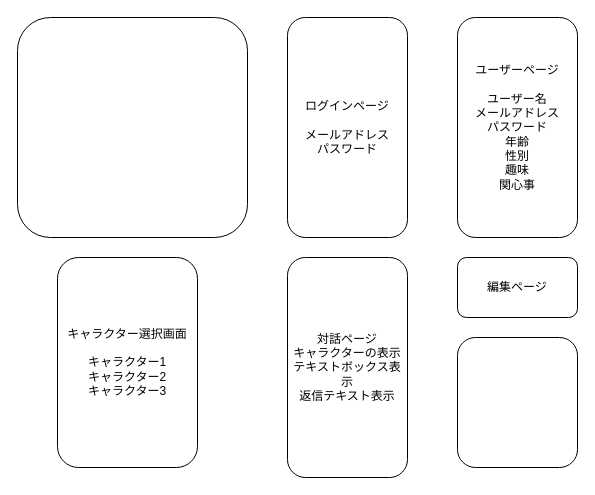
The diagram is 595 pixels wide and 495 high, and some of its shapes have lost their labels. The centre of each missing label's shape, as x and y in pixels:
新規登録ページ ユーザー名 メールアドレス パスワード 年齢 性別 趣味 関心事: (x=132, y=127)
背景、シチュエーション設定ページ 街中、カフェ、スタジアム、: (x=517, y=402)
